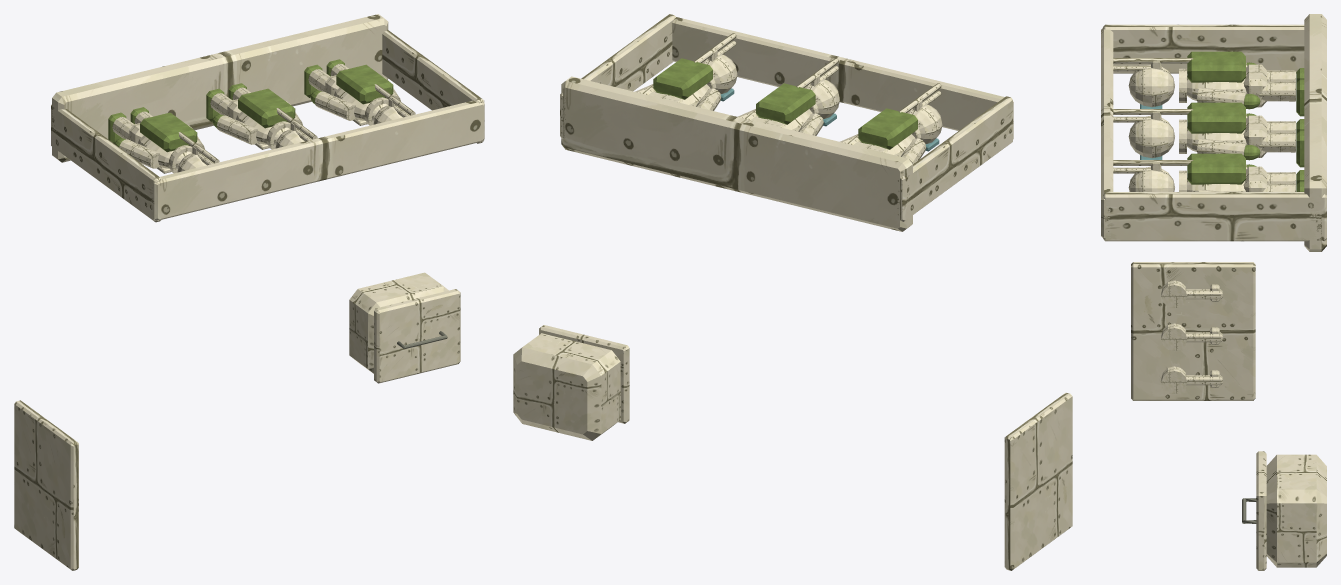
File: ECHO7_17_Equipo_Exploracion.obj
3 renders of one model, left to right at view 1: azimuth 30°, elevation 25°; view 2: azimuth 150°, elevation 25°; view 3: azimuth 270°, elevation 25°, orthographic. The views are drawn at different scales.
Visible parts, largest first — view 1: ECHO7_17_Equipo_Exploracion__Perchero_base_01, ECHO7_17_Equipo_Exploracion__Perchero_superior_01, ECHO7_17_Equipo_Exploracion__Tablero_herramientas_01, ECHO7_17_Equipo_Exploracion__Tapa_maletin_01, ECHO7_17_Equipo_Exploracion__Montante_perchero_01, ECHO7_17_Equipo_Exploracion__Montante_perchero_02, ECHO7_17_Equipo_Exploracion__Maletin_exploracion_01, ECHO7_17_Equipo_Exploracion__Traje_mochila_01, ECHO7_17_Equipo_Exploracion__Traje_mochila_02, ECHO7_17_Equipo_Exploracion__Traje_mochila_03, ECHO7_17_Equipo_Exploracion__Traje_manga_05, ECHO7_17_Equipo_Exploracion__Traje_manga_03 (+1 smaller); view 2: ECHO7_17_Equipo_Exploracion__Perchero_base_01, ECHO7_17_Equipo_Exploracion__Perchero_superior_01, ECHO7_17_Equipo_Exploracion__Tablero_herramientas_01, ECHO7_17_Equipo_Exploracion__Maletin_exploracion_01, ECHO7_17_Equipo_Exploracion__Montante_perchero_01, ECHO7_17_Equipo_Exploracion__Montante_perchero_02, ECHO7_17_Equipo_Exploracion__Traje_mochila_01, ECHO7_17_Equipo_Exploracion__Traje_mochila_03, ECHO7_17_Equipo_Exploracion__Traje_mochila_02, ECHO7_17_Equipo_Exploracion__Tapa_maletin_01, ECHO7_17_Equipo_Exploracion__Casco_exploracion_02, ECHO7_17_Equipo_Exploracion__Casco_exploracion_01 (+1 smaller); view 3: ECHO7_17_Equipo_Exploracion__Tablero_herramientas_01, ECHO7_17_Equipo_Exploracion__Montante_perchero_02, ECHO7_17_Equipo_Exploracion__Montante_perchero_01, ECHO7_17_Equipo_Exploracion__Maletin_exploracion_01, ECHO7_17_Equipo_Exploracion__Perchero_base_01, ECHO7_17_Equipo_Exploracion__Perchero_superior_01, ECHO7_17_Equipo_Exploracion__Traje_mochila_01, ECHO7_17_Equipo_Exploracion__Traje_mochila_03, ECHO7_17_Equipo_Exploracion__Traje_mochila_02, ECHO7_17_Equipo_Exploracion__Casco_exploracion_01, ECHO7_17_Equipo_Exploracion__Casco_exploracion_02, ECHO7_17_Equipo_Exploracion__Tapa_maletin_01 (+25 smaller).
Part boxes in pixels (left/top/right/bottom): ECHO7_17_Equipo_Exploracion__Perchero_base_01: left=52, top=14, right=388, bottom=162; ECHO7_17_Equipo_Exploracion__Perchero_superior_01: left=151, top=100, right=484, bottom=220; ECHO7_17_Equipo_Exploracion__Tablero_herramientas_01: left=14, top=400, right=78, bottom=570; ECHO7_17_Equipo_Exploracion__Tapa_maletin_01: left=374, top=289, right=460, bottom=383; ECHO7_17_Equipo_Exploracion__Montante_perchero_01: left=51, top=104, right=161, bottom=222; ECHO7_17_Equipo_Exploracion__Montante_perchero_02: left=382, top=29, right=484, bottom=143; ECHO7_17_Equipo_Exploracion__Maletin_exploracion_01: left=349, top=272, right=448, bottom=373; ECHO7_17_Equipo_Exploracion__Traje_mochila_01: left=140, top=112, right=197, bottom=152; ECHO7_17_Equipo_Exploracion__Traje_mochila_02: left=238, top=88, right=295, bottom=128; ECHO7_17_Equipo_Exploracion__Traje_mochila_03: left=336, top=64, right=393, bottom=104; ECHO7_17_Equipo_Exploracion__Traje_manga_05: left=315, top=91, right=355, bottom=120; ECHO7_17_Equipo_Exploracion__Traje_manga_03: left=217, top=115, right=257, bottom=144; ECHO7_17_Equipo_Exploracion__Perchero_base_01: left=561, top=76, right=912, bottom=231; ECHO7_17_Equipo_Exploracion__Perchero_superior_01: left=672, top=17, right=1013, bottom=139; ECHO7_17_Equipo_Exploracion__Tablero_herramientas_01: left=1004, top=392, right=1072, bottom=570; ECHO7_17_Equipo_Exploracion__Maletin_exploracion_01: left=513, top=333, right=620, bottom=440; ECHO7_17_Equipo_Exploracion__Montante_perchero_01: left=897, top=96, right=1012, bottom=221; ECHO7_17_Equipo_Exploracion__Montante_perchero_02: left=560, top=14, right=675, bottom=138; ECHO7_17_Equipo_Exploracion__Traje_mochila_01: left=858, top=108, right=917, bottom=149; ECHO7_17_Equipo_Exploracion__Traje_mochila_03: left=653, top=58, right=712, bottom=99; ECHO7_17_Equipo_Exploracion__Traje_mochila_02: left=756, top=83, right=815, bottom=124; ECHO7_17_Equipo_Exploracion__Tapa_maletin_01: left=539, top=325, right=629, bottom=423; ECHO7_17_Equipo_Exploracion__Casco_exploracion_02: left=804, top=79, right=839, bottom=119; ECHO7_17_Equipo_Exploracion__Casco_exploracion_01: left=907, top=104, right=942, bottom=144; ECHO7_17_Equipo_Exploracion__Tablero_herramientas_01: left=1131, top=262, right=1255, bottom=400; ECHO7_17_Equipo_Exploracion__Montante_perchero_02: left=1103, top=192, right=1326, bottom=241; ECHO7_17_Equipo_Exploracion__Montante_perchero_01: left=1103, top=24, right=1304, bottom=73; ECHO7_17_Equipo_Exploracion__Maletin_exploracion_01: left=1266, top=454, right=1326, bottom=567; ECHO7_17_Equipo_Exploracion__Perchero_base_01: left=1304, top=14, right=1326, bottom=251; ECHO7_17_Equipo_Exploracion__Perchero_superior_01: left=1101, top=28, right=1113, bottom=238; ECHO7_17_Equipo_Exploracion__Traje_mochila_01: left=1187, top=51, right=1245, bottom=82; ECHO7_17_Equipo_Exploracion__Traje_mochila_03: left=1187, top=153, right=1245, bottom=184; ECHO7_17_Equipo_Exploracion__Traje_mochila_02: left=1187, top=102, right=1245, bottom=133; ECHO7_17_Equipo_Exploracion__Casco_exploracion_01: left=1128, top=64, right=1174, bottom=107; ECHO7_17_Equipo_Exploracion__Casco_exploracion_02: left=1128, top=115, right=1174, bottom=157; ECHO7_17_Equipo_Exploracion__Tapa_maletin_01: left=1256, top=451, right=1266, bottom=570.
Bounding box in the file's own units: 6.41 × 5.4 × 2.62.
4 materials, 4 textured.
